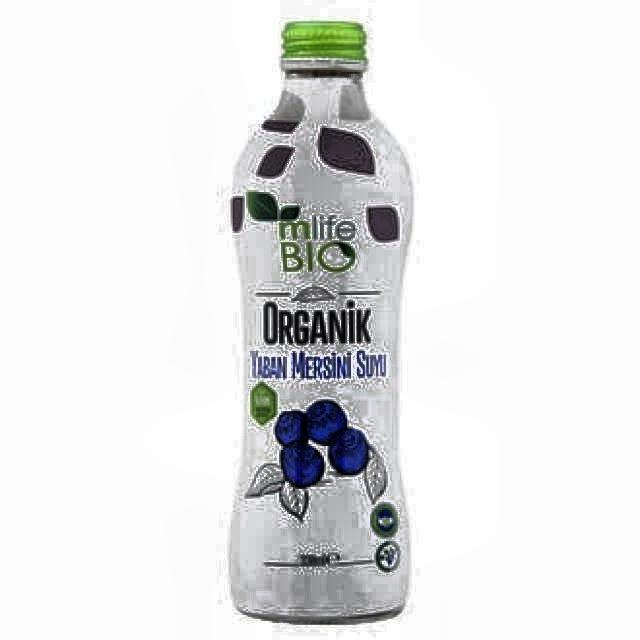glass: (228, 20, 415, 627)
